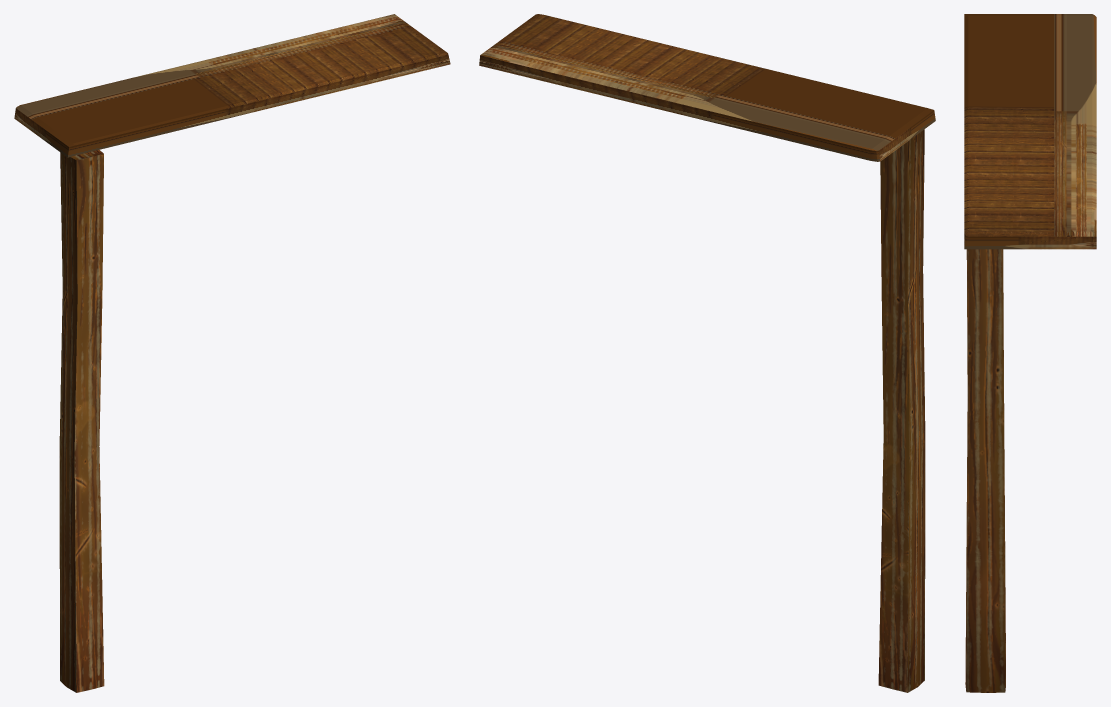
Rendered from tettoia.fbx.
3 views of the same model, side by side, from view 1: azimuth 30°, elevation 25°; view 2: azimuth 150°, elevation 25°; view 3: azimuth 270°, elevation 25° (orthographic). The views are drawn at different scales.
Parts seen in each view (by area): view 1: Box001, Trave; view 2: Box001, Trave; view 3: Box001, Trave.
Part boxes in pixels (left/top/right/bottom): Box001: left=14, top=14, right=450, bottom=157; Trave: left=59, top=150, right=104, bottom=692; Box001: left=479, top=14, right=935, bottom=161; Trave: left=878, top=129, right=925, bottom=692; Box001: left=964, top=14, right=1096, bottom=249; Trave: left=965, top=249, right=1005, bottom=692.
Bounding box in the file's own units: 1591 × 2182 × 397.
Materials: 1 (1 with a texture image).
